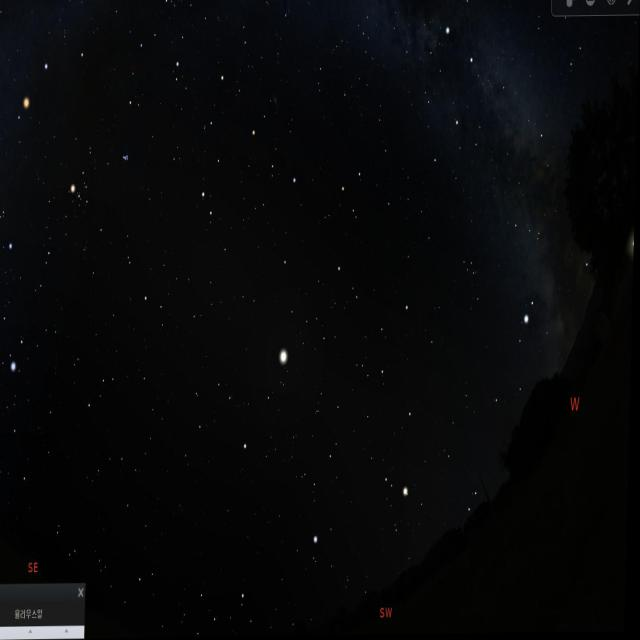cygnus: (436, 0, 540, 150)
pleiades: (118, 148, 137, 170)
taurus: (66, 122, 138, 238)
